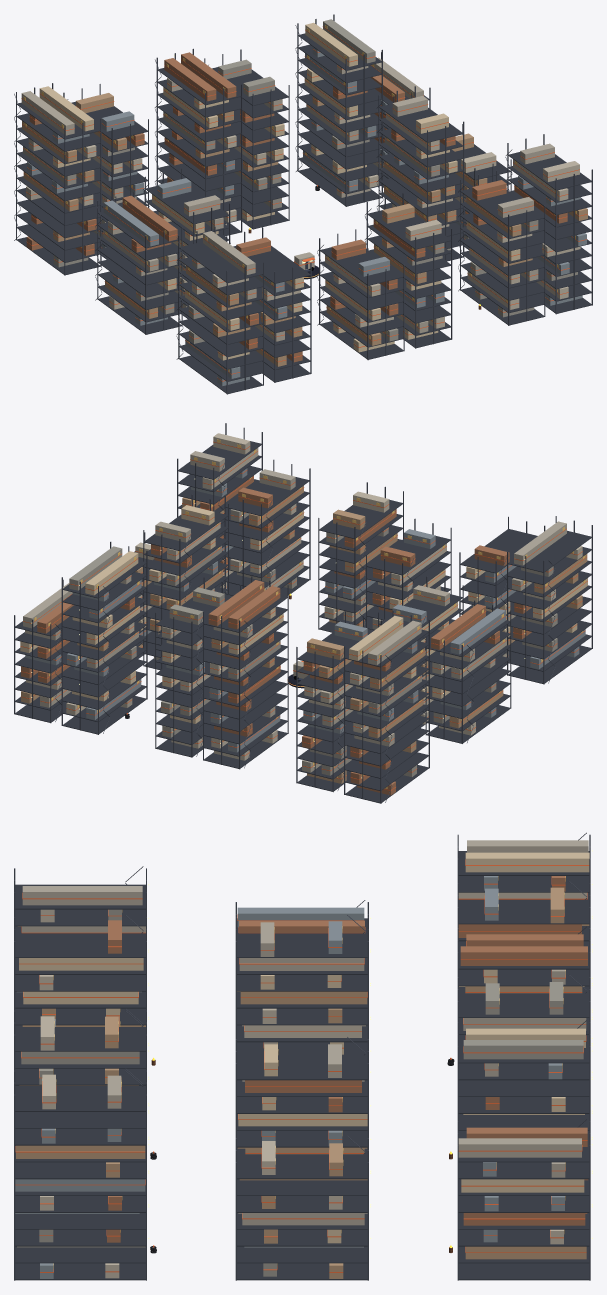
3 renders of one model, top to bottom at view 1: azimuth 30°, elevation 25°; view 2: azimuth 150°, elevation 25°; view 3: azimuth 270°, elevation 25°, orthographic. The views are drawn at different scales.
Parts seen in each view (by area): view 1: district_city_vertical.lod0; view 2: district_city_vertical.lod0; view 3: district_city_vertical.lod0.
Part boxes in pixels (x1,y1,x2,y2): district_city_vertical.lod0: (14,14,592,394); district_city_vertical.lod0: (14,423,592,803); district_city_vertical.lod0: (14,832,592,1280).
Bounding box in the file's own units: 97.06 × 37.24 × 96.6.
